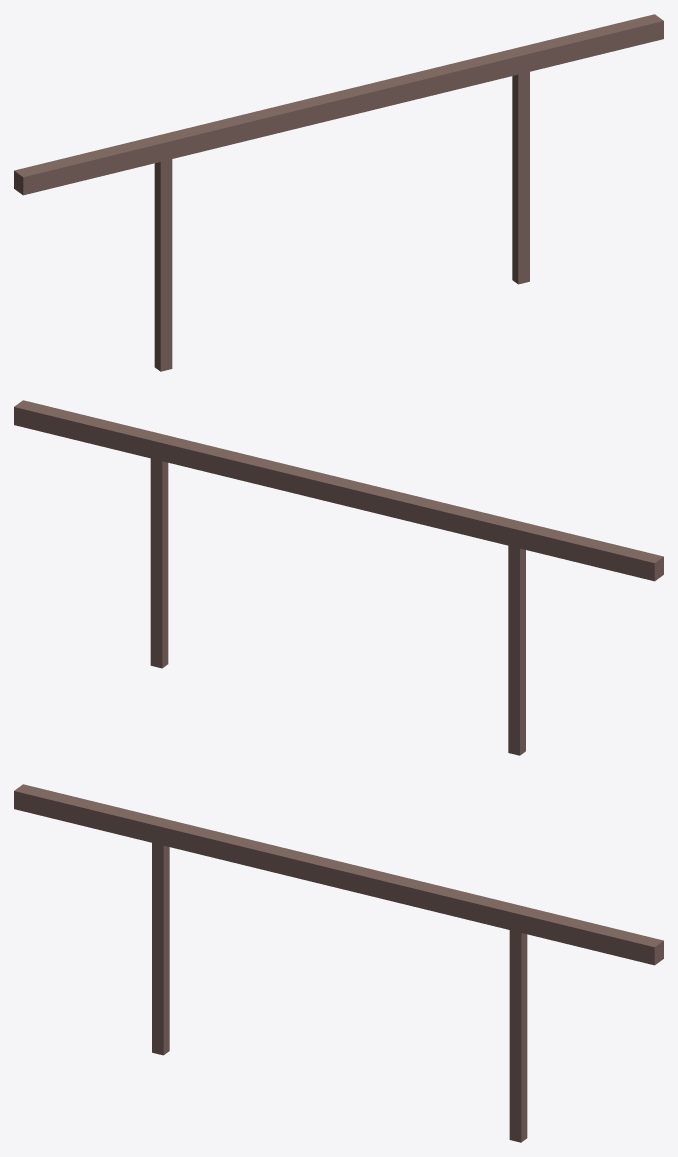
File: RAILING.fbx
3 views of the same model, one above another, from view 1: azimuth 30°, elevation 25°; view 2: azimuth 150°, elevation 25°; view 3: azimuth 330°, elevation 25° (orthographic).
Parts seen in each view (by area): view 1: railing1; view 2: railing1; view 3: railing1.
Part boxes in pixels (x1,y1,x2,y2): railing1: (14, 14, 663, 371); railing1: (14, 400, 663, 755); railing1: (14, 784, 663, 1142).
Bounding box in the file's own units: 300 × 102 × 7.45.
